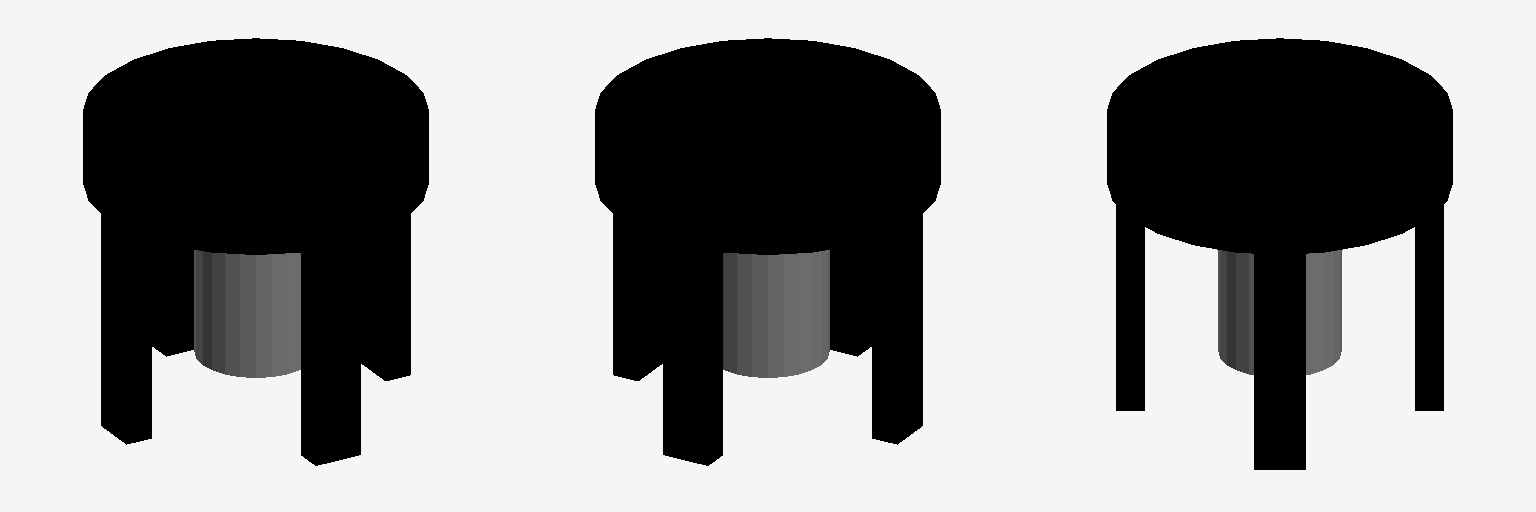
The model's file is StandingLamp.obj.
3 renders of one model, left to right at view 1: azimuth 30°, elevation 25°; view 2: azimuth 150°, elevation 25°; view 3: azimuth 270°, elevation 25°, orthographic.
Parts seen in each view (by area): view 1: Cylinder002, Cylinder001, Box004, Box001, Box002, Box003; view 2: Cylinder002, Cylinder001, Box003, Box001, Box002, Box004; view 3: Cylinder002, Box002, Cylinder001, Box003, Box004.
Part boxes in pixels (x1,y1,x2,y2): Cylinder002: (83,38,428,254); Cylinder001: (194,250,300,377); Box004: (301,240,360,465); Box001: (101,214,151,444); Box002: (361,214,410,380); Box003: (152,240,193,356); Cylinder002: (595,38,940,254); Cylinder001: (723,250,829,377); Box003: (663,240,722,465); Box001: (872,214,922,444); Box002: (613,214,662,380); Box004: (830,240,871,356); Cylinder002: (1107,38,1452,254); Box002: (1254,254,1305,469); Cylinder001: (1218,250,1341,374); Box003: (1415,205,1443,410); Box004: (1116,205,1144,410).
Size of the model in its own units: 109 by 100 by 109.